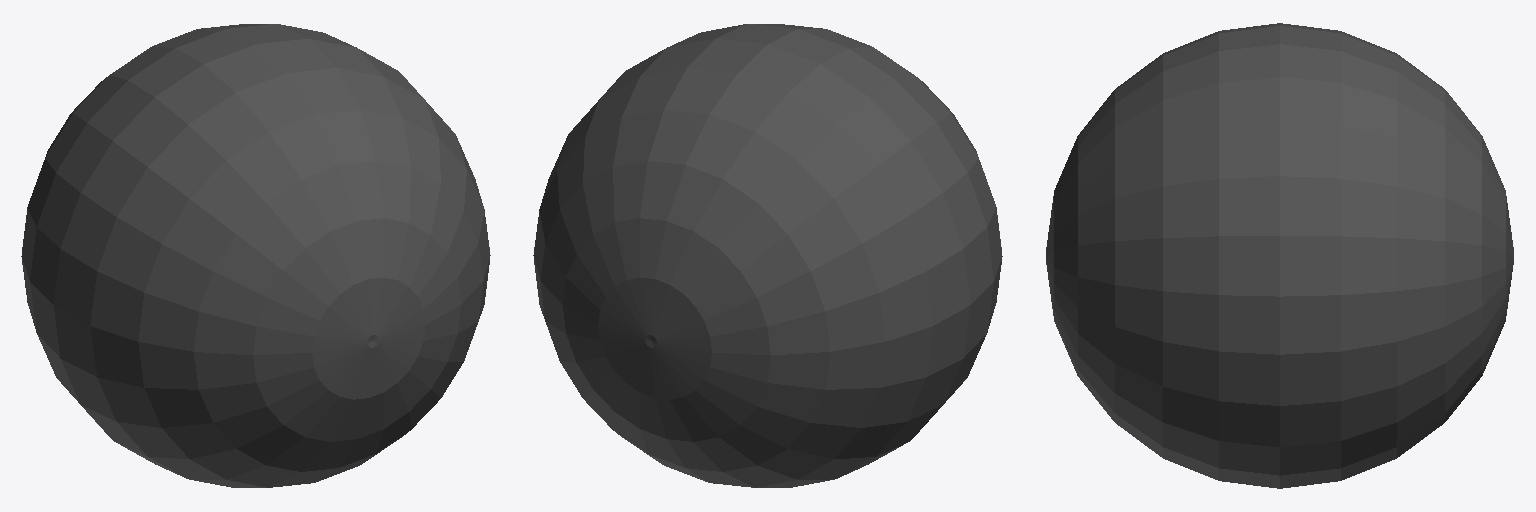
File: cannonBall.obj
3 views of the same model, side by side, from view 1: azimuth 30°, elevation 25°; view 2: azimuth 150°, elevation 25°; view 3: azimuth 270°, elevation 25° (orthographic).
Parts seen in each view (by area): view 1: cannonBall; view 2: cannonBall; view 3: cannonBall.
Boxes of the visible parts, box(x1,y1,x2,y2) form: cannonBall: box(21, 24, 490, 487); cannonBall: box(533, 24, 1002, 487); cannonBall: box(1046, 23, 1513, 488).
Size of the model in its own units: 1.4 by 1.4 by 1.4.